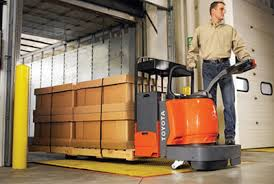Pallet Jack: (31, 55, 258, 174)
